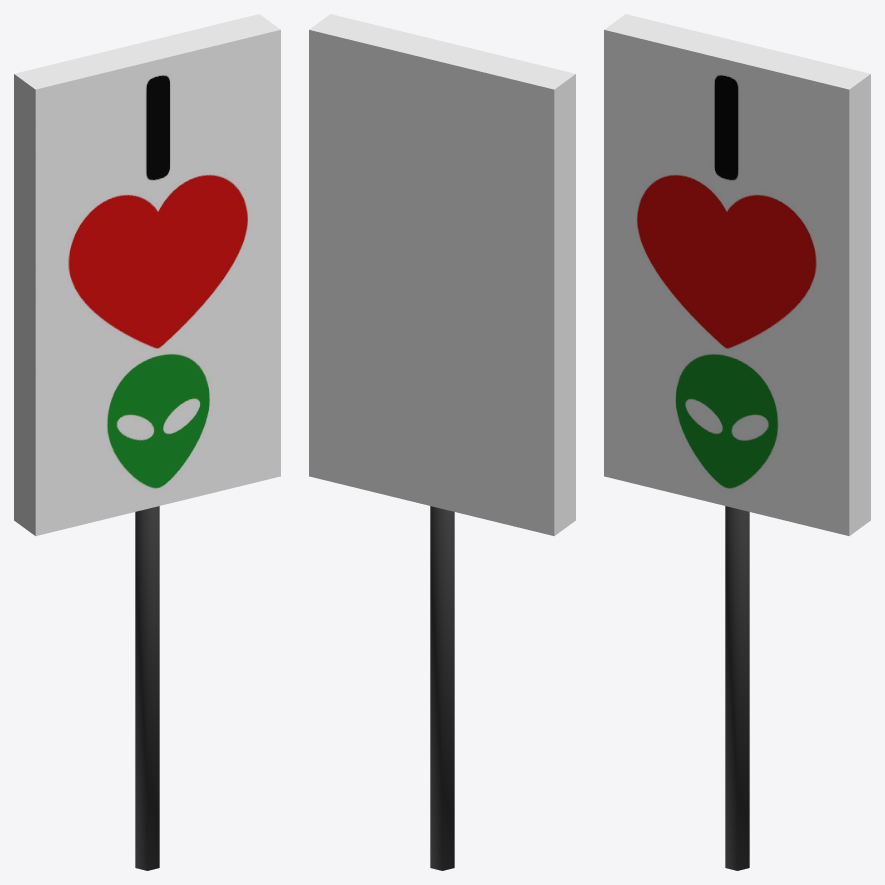
Rendered from pankart.glb.
3 views of the same model, side by side, from view 1: azimuth 30°, elevation 25°; view 2: azimuth 150°, elevation 25°; view 3: azimuth 330°, elevation 25° (orthographic).
Visible parts, largest first — view 1: Cube, pankart; view 2: Cube, pankart; view 3: Cube, pankart.
Boxes of the visible parts, <box> form: Cube: <box>14,14,280,536</box>; pankart: <box>135,506,159,870</box>; Cube: <box>309,14,575,536</box>; pankart: <box>430,506,454,870</box>; Cube: <box>604,14,870,536</box>; pankart: <box>725,506,749,870</box>.
Bounding box in the file's own units: 22.29 × 70.59 × 3.39.
2 materials, 1 textured.
